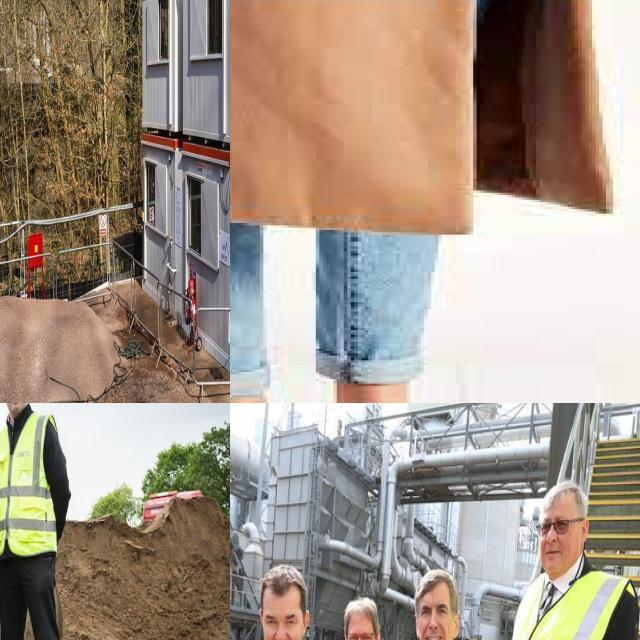face_nomask: (540, 506, 590, 573), (258, 591, 310, 640), (415, 598, 455, 640), (339, 616, 377, 640), (0, 403, 29, 417)
glasses: (536, 516, 572, 542), (344, 628, 374, 640)
head_nohelmet: (407, 556, 462, 603), (255, 556, 309, 603), (536, 470, 596, 509), (342, 578, 382, 622)
person: (493, 481, 637, 640), (0, 403, 74, 640)
vest: (497, 568, 640, 640), (0, 411, 58, 549)
